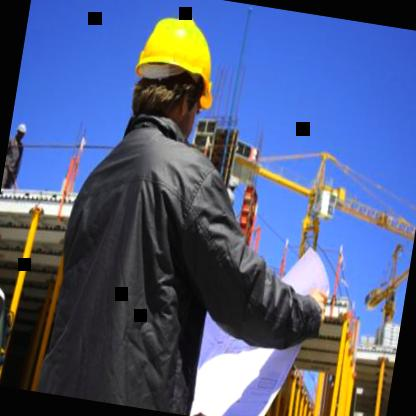helmet: (116, 0, 230, 154), (12, 117, 30, 146)
